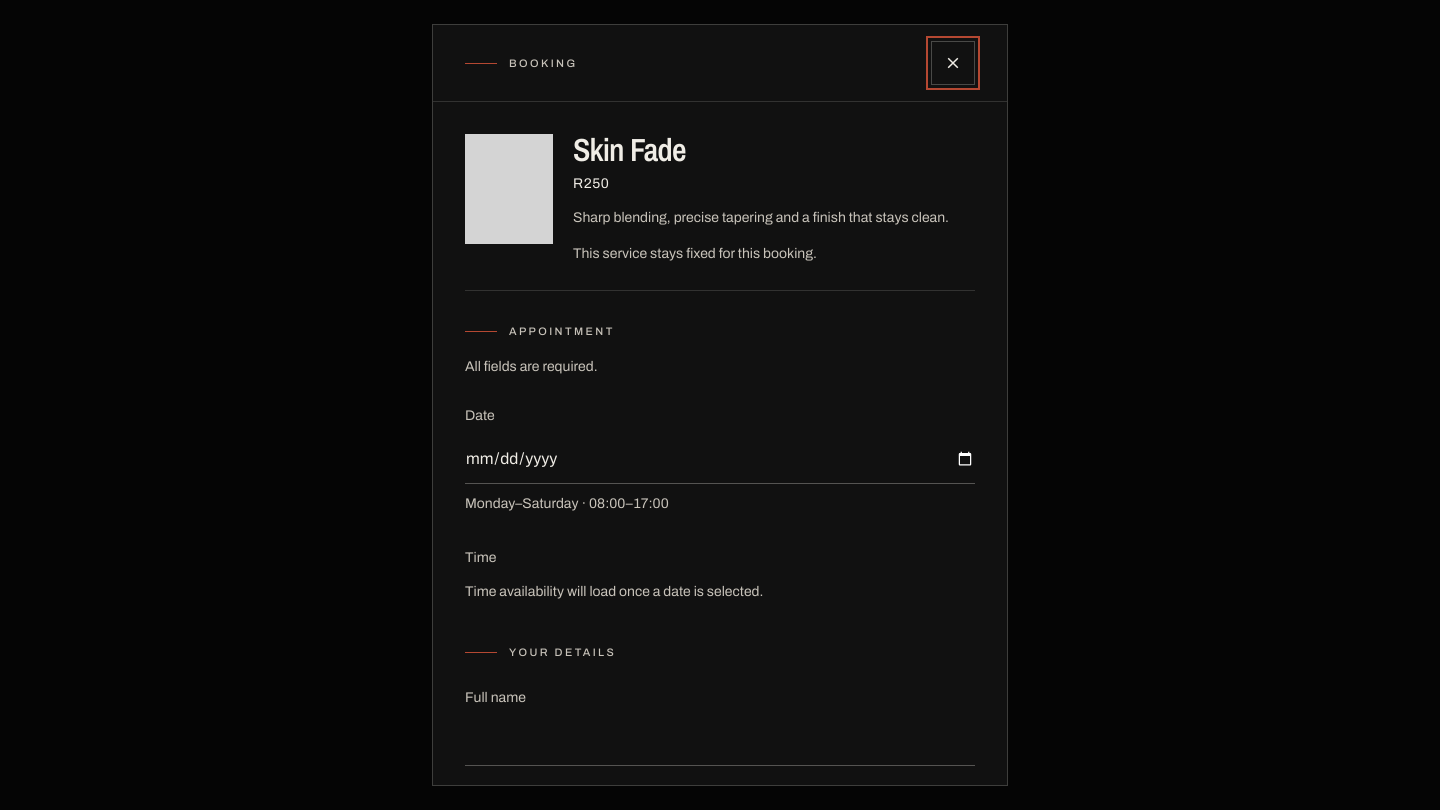
Test: booking modal › shows inline errors and keeps typed values when required details are missing
Type "J" into the field labelled "Full name".
click(720, 741); type("J")  # box [465,717,975,766]
(page scrolled)
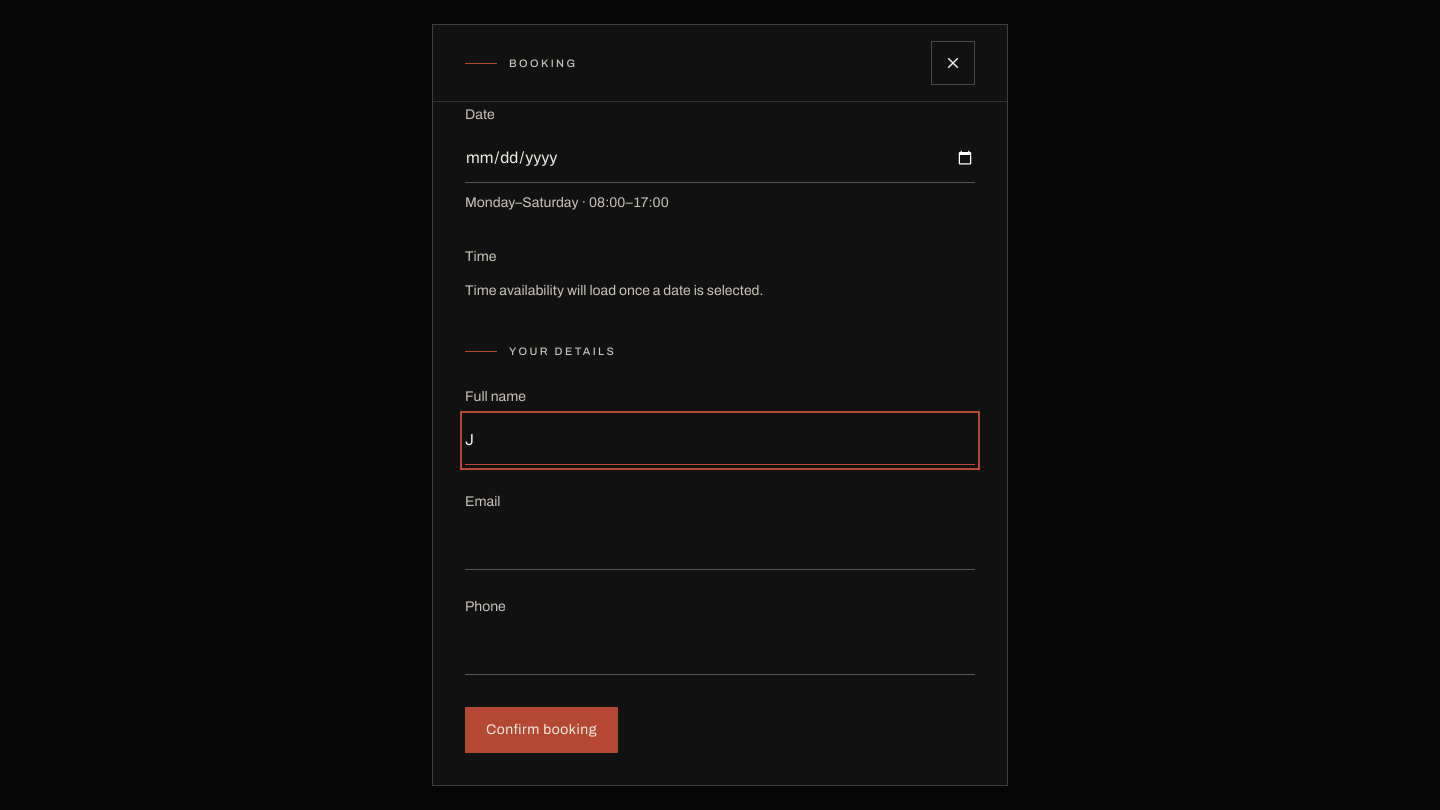
Type "not-an-email" into the field labelled "Email".
click(720, 545); type("not-an-email")  # box [465,521,975,570]
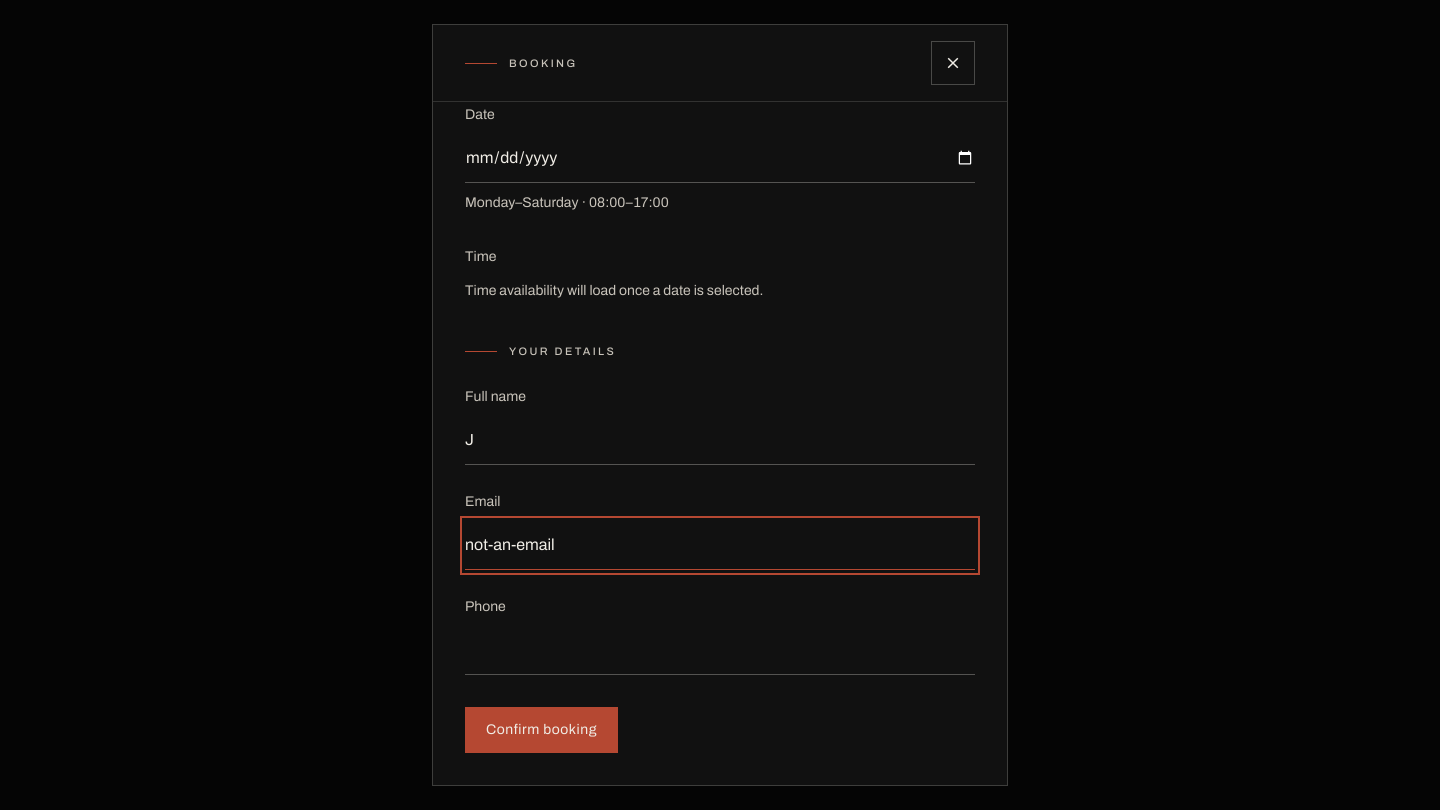
Click the button "Confirm booking".
click(542, 730)  # box [465,707,618,753]
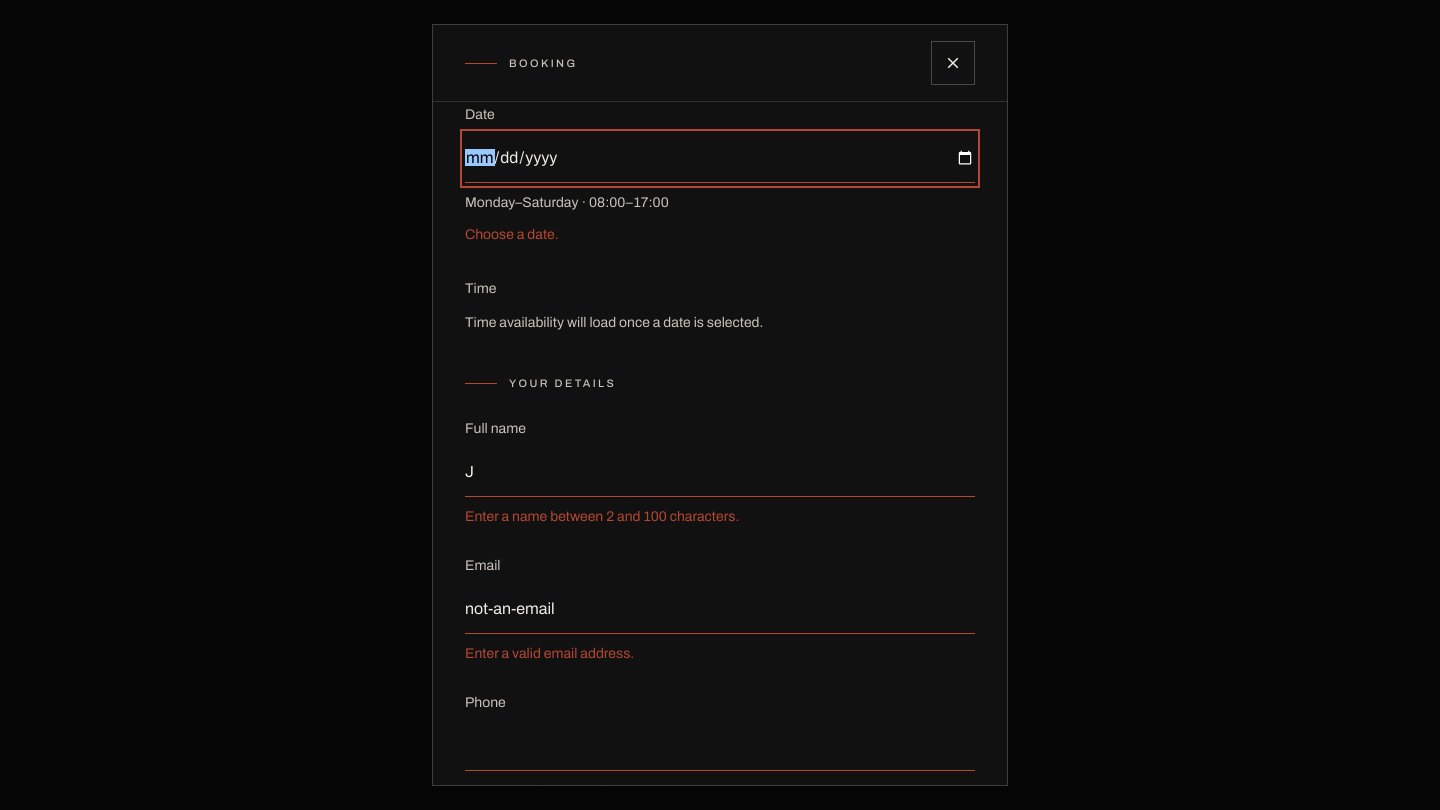
Expected: the text "Choose a date." is shown, [465,227,559,242]
Expected: the text "Enter a name between 2 and 100 characters." is shown, [465,509,739,524]
Expected: the text "Enter a valid email address." is shown, [465,646,634,661]
